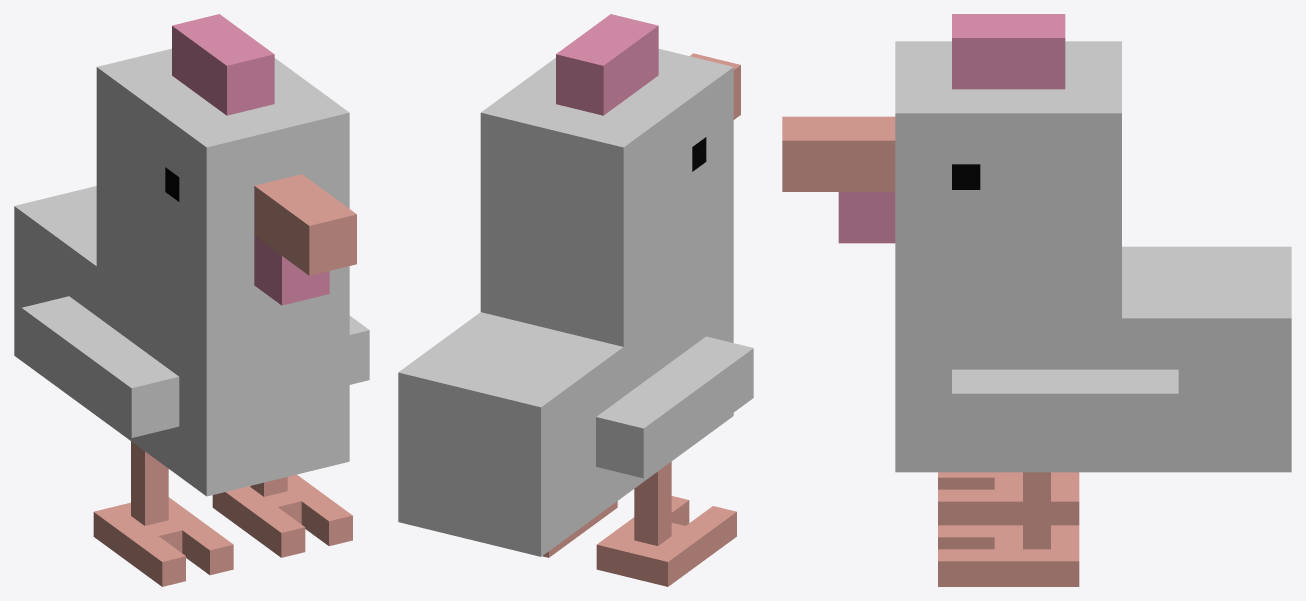
Rendered from Chicken.fbx.
The picture shows the model from 3 angles, left to right: view 1: azimuth 30°, elevation 25°; view 2: azimuth 150°, elevation 25°; view 3: azimuth 270°, elevation 25°; orthographic projection. The views are drawn at different scales.
Visible parts, largest first — view 1: Body2, Legs, Wings, Crest, Beak; view 2: Body2, Wings, Legs, Crest, Beak; view 3: Body2, Wings, Legs, Crest, Beak.
Boxes of the visible parts, box(x1,y1,x2,y2) form: Body2: box(14, 48, 349, 496); Legs: box(93, 441, 352, 586); Wings: box(21, 296, 369, 437); Crest: box(172, 14, 329, 305); Beak: box(254, 174, 356, 275); Body2: box(398, 49, 733, 556); Wings: box(596, 336, 753, 478); Legs: box(542, 461, 736, 586); Crest: box(556, 14, 658, 115); Beak: box(690, 53, 740, 119); Body2: box(895, 41, 1291, 472); Wings: box(952, 369, 1178, 444); Legs: box(938, 472, 1079, 586); Crest: box(838, 14, 1065, 243); Beak: box(782, 116, 895, 191).
Bounding box in the file's own units: 10 × 20 × 18.
